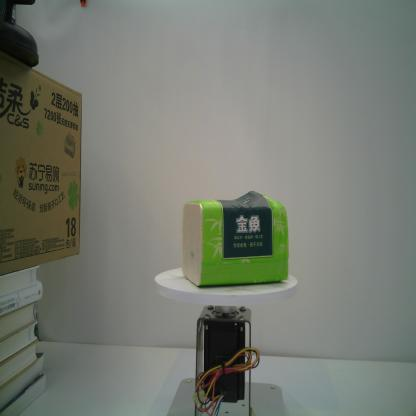Tissue: (182, 188, 290, 290)
